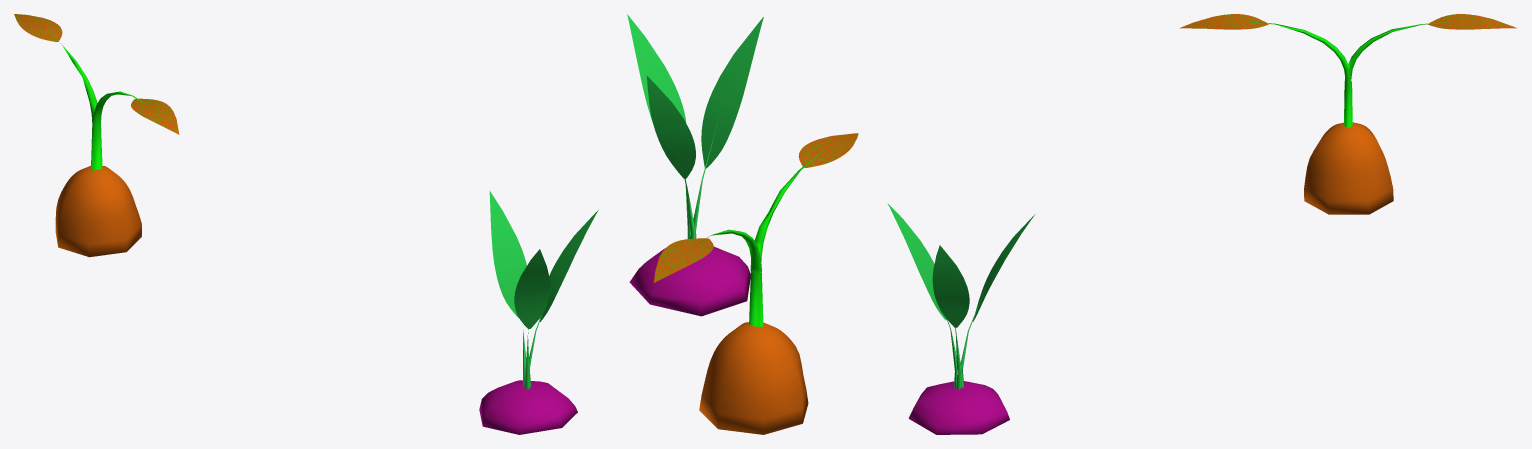
Rendered from modifybaruuu.fbx.
3 renders of one model, left to right at view 1: azimuth 30°, elevation 25°; view 2: azimuth 150°, elevation 25°; view 3: azimuth 270°, elevation 25°, orthographic. The views are drawn at different scales.
Parts seen in each view (by area): view 1: Turnip_Ready, arrot_Ready; view 2: arrot_Ready, Turnip_Ready; view 3: arrot_Ready, Turnip_Ready.
Boxes of the visible parts, <box> form: Turnip_Ready: <box>479,191,598,434</box>; arrot_Ready: <box>14,14,179,257</box>; arrot_Ready: <box>653,133,858,434</box>; Turnip_Ready: <box>627,14,763,316</box>; arrot_Ready: <box>1179,14,1516,214</box>; Turnip_Ready: <box>887,203,1035,434</box>.
Bounding box in the file's own units: 105 × 79.77 × 165.
